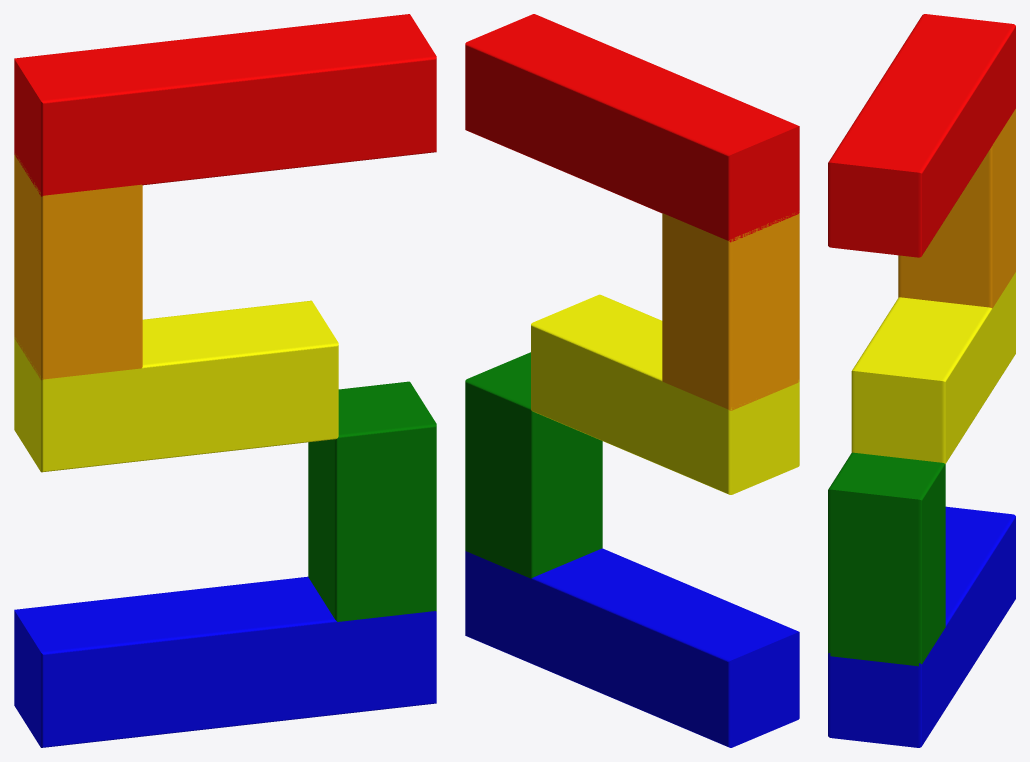
3 renders of one model, left to right at view 1: azimuth 30°, elevation 25°; view 2: azimuth 150°, elevation 25°; view 3: azimuth 270°, elevation 25°, orthographic. The views are drawn at different scales.
Bounding box in the file's own units: 52.07 × 88 × 26.04.
